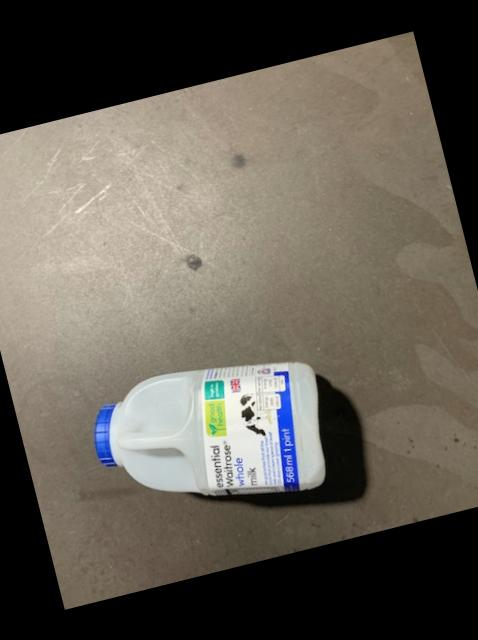plastic: (96, 360, 326, 493)
